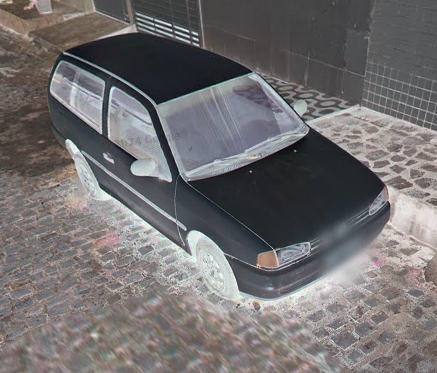car: (47, 30, 392, 306)
